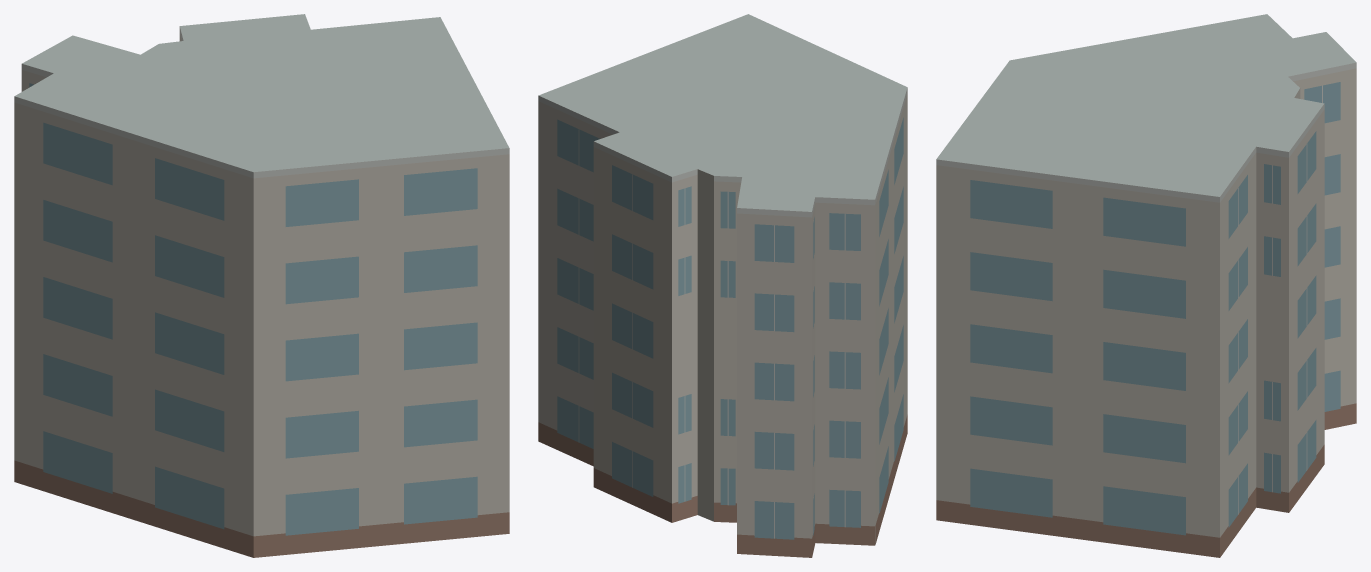
The model's file is survey-upis-32820757.glb.
The picture shows the model from 3 angles, left to right: view 1: azimuth 30°, elevation 25°; view 2: azimuth 150°, elevation 25°; view 3: azimuth 270°, elevation 25°; orthographic projection. The views are drawn at different scales.
Parts seen in each view (by area): view 1: survey-upis-32820757.tmp; view 2: survey-upis-32820757.tmp; view 3: survey-upis-32820757.tmp.
Boxes of the visible parts, box(x1,y1,x2,y2) form: survey-upis-32820757.tmp: box(14, 14, 509, 557); survey-upis-32820757.tmp: box(538, 14, 907, 557); survey-upis-32820757.tmp: box(936, 14, 1356, 557).
Size of the model in its own units: 16.6 by 15.25 by 16.12.
